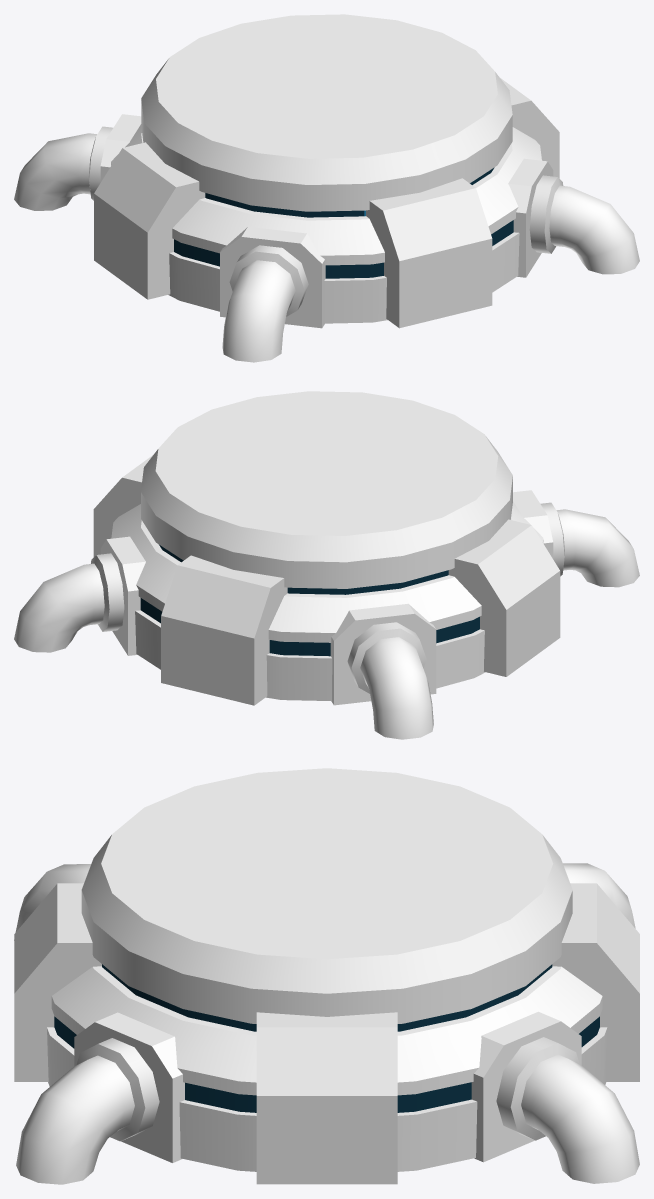
File: Props_Pod.008.fbx
3 views of the same model, one above another, from view 1: azimuth 30°, elevation 25°; view 2: azimuth 150°, elevation 25°; view 3: azimuth 270°, elevation 25° (orthographic). The views are drawn at different scales.
Visible parts, largest first — view 1: Props_Pod.008; view 2: Props_Pod.008; view 3: Props_Pod.008.
Boxes of the visible parts, left/top/right/bottom form: Props_Pod.008: left=14, top=14, right=639, bottom=362; Props_Pod.008: left=14, top=391, right=639, bottom=739; Props_Pod.008: left=14, top=768, right=639, bottom=1184.
Bounding box in the file's own units: 1.78 × 0.6027 × 1.78.
